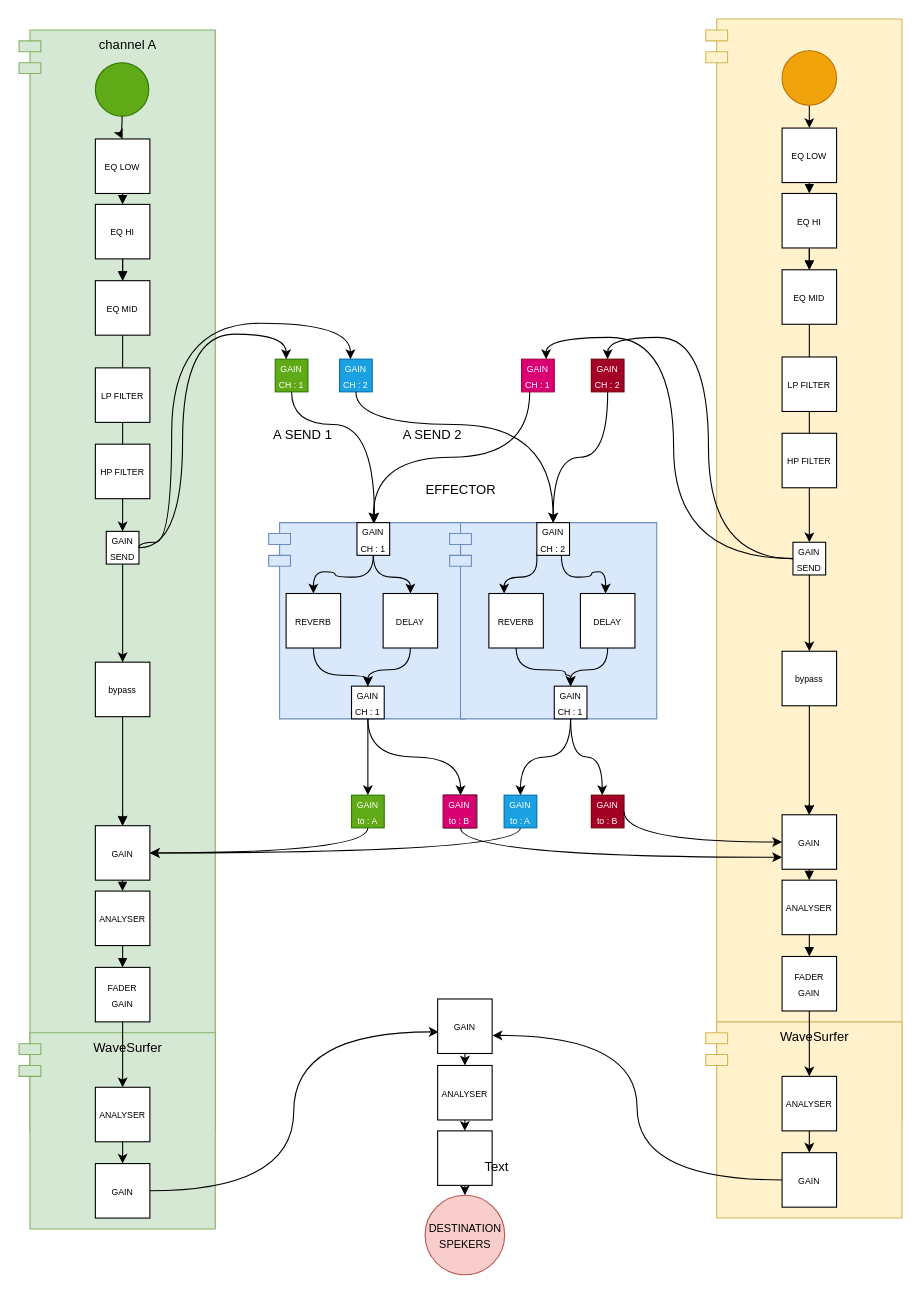
This 921x1294 diagram has some shape labels left out. The box of each missing label's shape, as (x1, y1, x2, y2) in pixels:
channel B: (705, 18, 902, 1120)
RECORDER: (437, 1130, 492, 1185)
SOURCE A: (94, 62, 149, 116)
SOURCE B: (781, 50, 837, 105)
